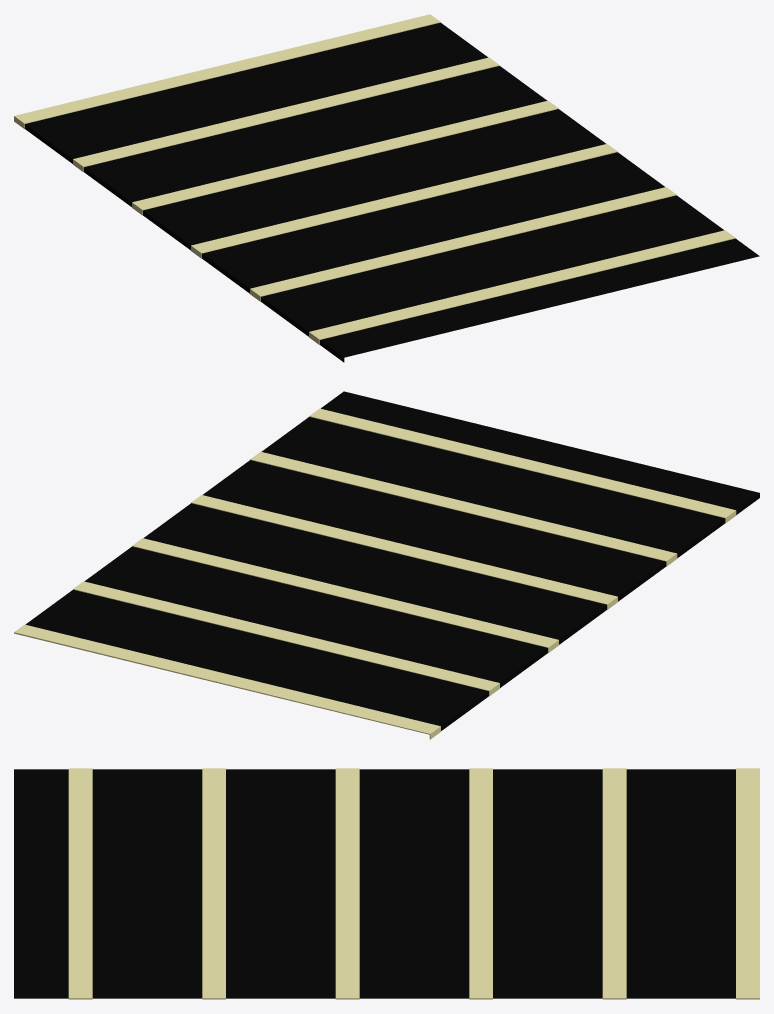
File: Grounds.glb
3 views of the same model, one above another, from view 1: azimuth 30°, elevation 25°; view 2: azimuth 150°, elevation 25°; view 3: azimuth 270°, elevation 25° (orthographic). The views are drawn at different scales.
Parts seen in each view (by area): view 1: Ground, Ground_ConveyorBelt; view 2: Ground, Ground_ConveyorBelt; view 3: Ground, Ground_ConveyorBelt.
Boxes of the visible parts, box(x1,y1,x2,y2) form: Ground: box(25, 22, 759, 362); Ground_ConveyorBelt: box(14, 14, 735, 344); Ground: box(25, 391, 759, 730); Ground_ConveyorBelt: box(14, 408, 736, 739); Ground: box(14, 769, 735, 998); Ground_ConveyorBelt: box(68, 768, 759, 999).
Size of the model in its own units: 9.64 by 0.1273 by 13.23.
